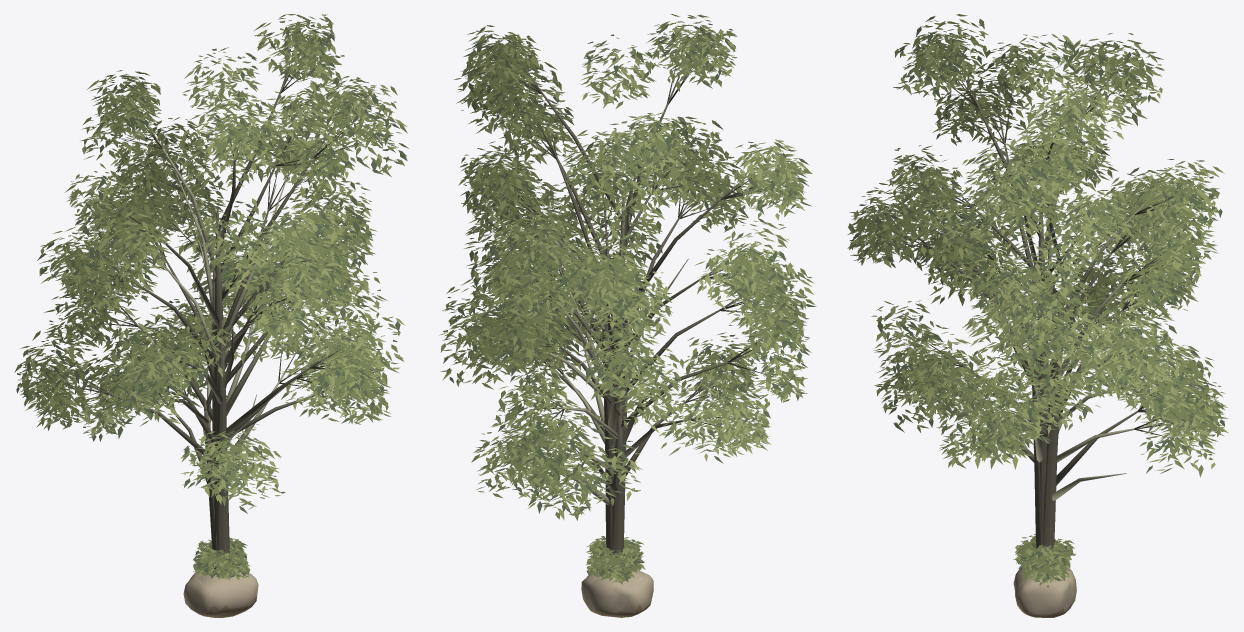
The model's file is environment.glb.
The picture shows the model from 3 angles, left to right: view 1: azimuth 30°, elevation 25°; view 2: azimuth 150°, elevation 25°; view 3: azimuth 270°, elevation 25°; orthographic projection. The views are drawn at different scales.
Parts seen in each view (by area): view 1: leaf_open_woodland.003, leaf_open_woodland.002, leaf_open_woodland.001, leaf_open_woodland, bark_open_woodland.001, intact_silicified_billy.008, intact_silicified_billy.003, bark_open_woodland.003, leaf_shrub.002, leaf_shrub, leaf_shrub.001, bark_open_woodland; view 2: leaf_open_woodland.002, leaf_open_woodland, leaf_open_woodland.003, leaf_open_woodland.001, intact_silicified_billy.003, bark_open_woodland, bark_open_woodland.002, leaf_shrub.002, intact_silicified_billy.008, leaf_shrub, leaf_shrub.001; view 3: leaf_open_woodland.003, leaf_open_woodland.001, leaf_open_woodland.002, leaf_open_woodland, bark_open_woodland.002, intact_silicified_billy.003, leaf_shrub.002, bark_open_woodland.003, leaf_shrub, leaf_shrub.001, bark_open_woodland.001.
Part boxes in pixels (x1,y1,x2,y2): leaf_open_woodland.003: [64, 14, 408, 317]; leaf_open_woodland.002: [37, 80, 377, 414]; leaf_open_woodland.001: [75, 123, 404, 421]; leaf_open_woodland: [14, 253, 391, 513]; bark_open_woodland.001: [214, 319, 229, 573]; intact_silicified_billy.008: [201, 572, 255, 617]; intact_silicified_billy.003: [183, 572, 258, 617]; bark_open_woodland.003: [213, 207, 223, 549]; leaf_shrub.002: [192, 537, 250, 580]; leaf_shrub: [195, 537, 248, 580]; leaf_shrub.001: [194, 542, 249, 575]; bark_open_woodland: [203, 398, 217, 550]; leaf_open_woodland.002: [461, 76, 791, 433]; leaf_open_woodland: [471, 295, 811, 520]; leaf_open_woodland.003: [454, 14, 812, 326]; leaf_open_woodland.001: [439, 139, 816, 390]; intact_silicified_billy.003: [581, 572, 653, 617]; bark_open_woodland: [608, 403, 623, 560]; bark_open_woodland.002: [602, 305, 616, 554]; leaf_shrub.002: [586, 536, 645, 584]; intact_silicified_billy.008: [588, 569, 639, 617]; leaf_shrub: [589, 536, 643, 582]; leaf_shrub.001: [586, 541, 643, 582]; leaf_open_woodland.003: [893, 14, 1190, 353]; leaf_open_woodland.001: [847, 167, 1185, 462]; leaf_open_woodland.002: [886, 122, 1224, 426]; leaf_open_woodland: [874, 228, 1228, 477]; bark_open_woodland.002: [1043, 266, 1064, 548]; intact_silicified_billy.003: [1018, 568, 1069, 617]; leaf_shrub.002: [1013, 538, 1075, 582]; bark_open_woodland.003: [1037, 189, 1049, 554]; leaf_shrub: [1016, 534, 1070, 580]; leaf_shrub.001: [1015, 536, 1072, 587]; bark_open_woodland.001: [1031, 302, 1046, 548].
Size of the model in its own units: 11.62 by 18.28 by 11.04.
